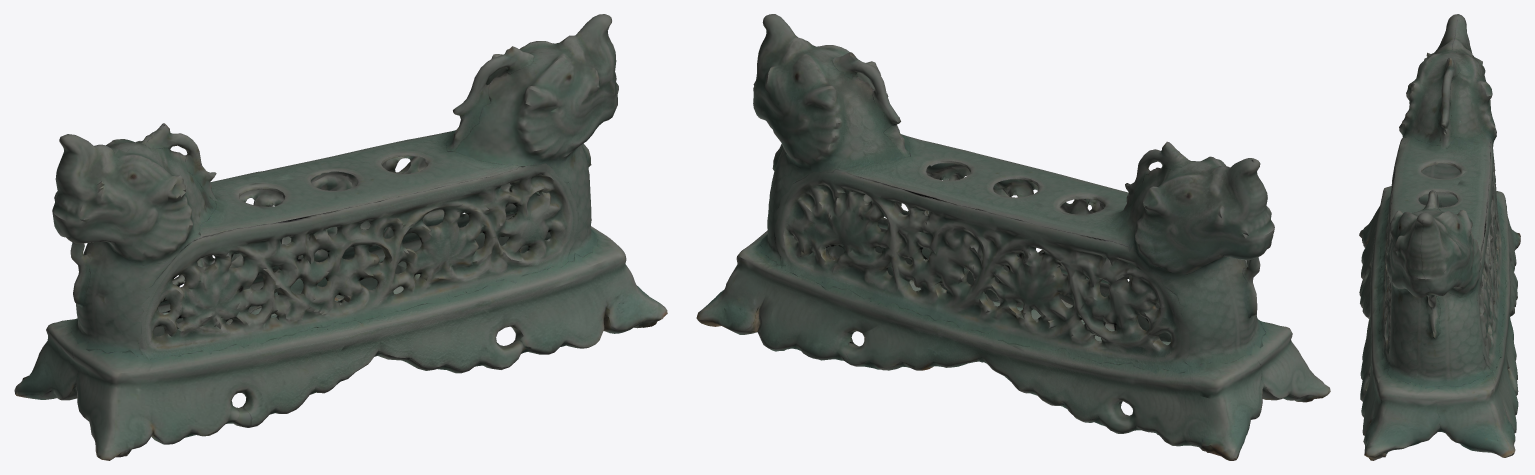
File: Dra_05_3D_03_Pub.glb
3 views of the same model, side by side, from view 1: azimuth 30°, elevation 25°; view 2: azimuth 150°, elevation 25°; view 3: azimuth 270°, elevation 25° (orthographic). The views are drawn at different scales.
Parts seen in each view (by area): view 1: duk003783_000_30000; view 2: duk003783_000_30000; view 3: duk003783_000_30000.
Part boxes in pixels (bbox=[...]): duk003783_000_30000: bbox=[14, 14, 667, 460]; duk003783_000_30000: bbox=[696, 14, 1330, 460]; duk003783_000_30000: bbox=[1359, 14, 1520, 460].
Bounding box in the file's own units: 177 × 87.83 × 52.85.
1 material, 1 textured.
